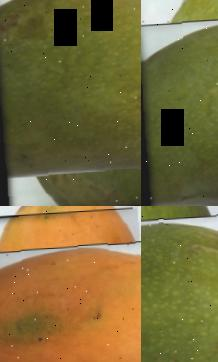Ripe: (0, 206, 141, 362)
Unripe: (0, 0, 141, 206), (141, 0, 218, 206), (141, 206, 218, 362)
